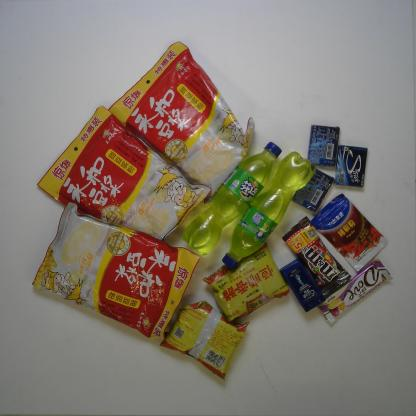Chocolate: (282, 215, 350, 296), (318, 256, 394, 324)
Drink: (181, 140, 282, 255), (224, 150, 314, 270)
Gum: (293, 166, 334, 214), (331, 144, 370, 187), (306, 122, 341, 166)
Instant Drink: (37, 105, 211, 247), (105, 41, 254, 204), (31, 200, 201, 340)
Personal Hygiene: (278, 254, 326, 314)
Seasoner: (158, 298, 251, 380), (202, 238, 292, 322), (308, 194, 390, 273)
